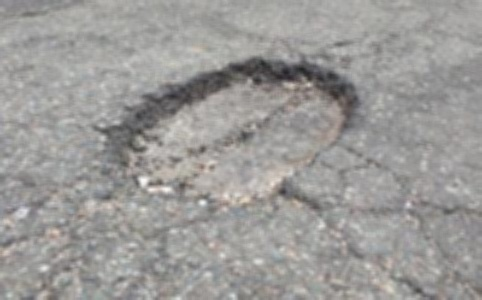pothole: (97, 51, 360, 206)
